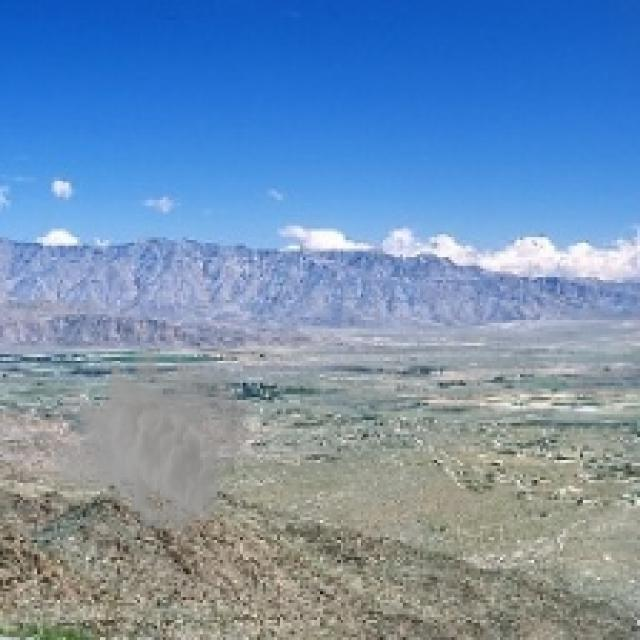Smoke: (52, 331, 252, 543)
